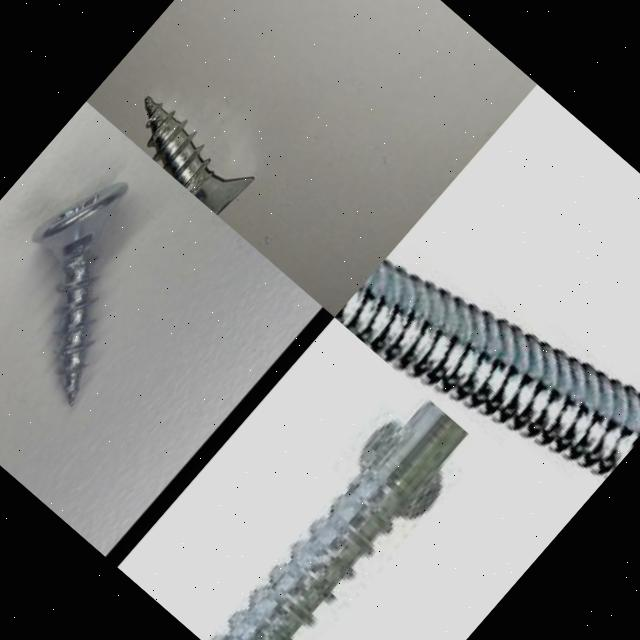Screw: (334, 246, 640, 484), (213, 396, 469, 640), (32, 184, 127, 406), (143, 97, 252, 215)
